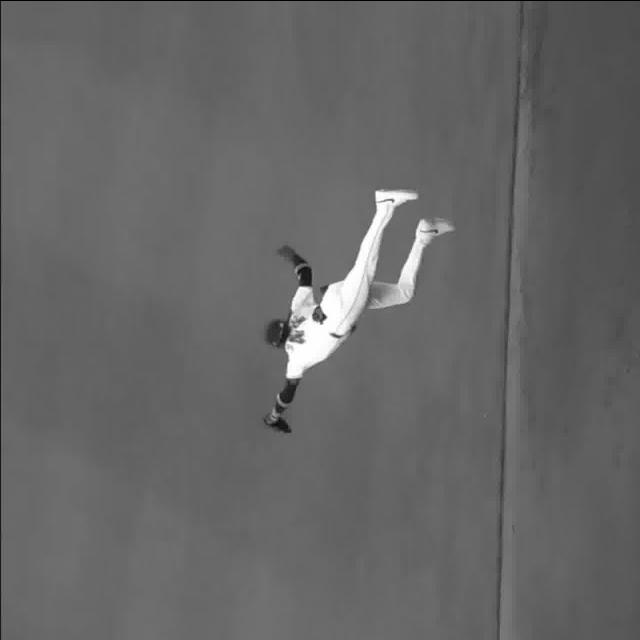baseball_glove: (265, 413, 293, 435)
shoe: (372, 178, 423, 202), (420, 214, 458, 240)
